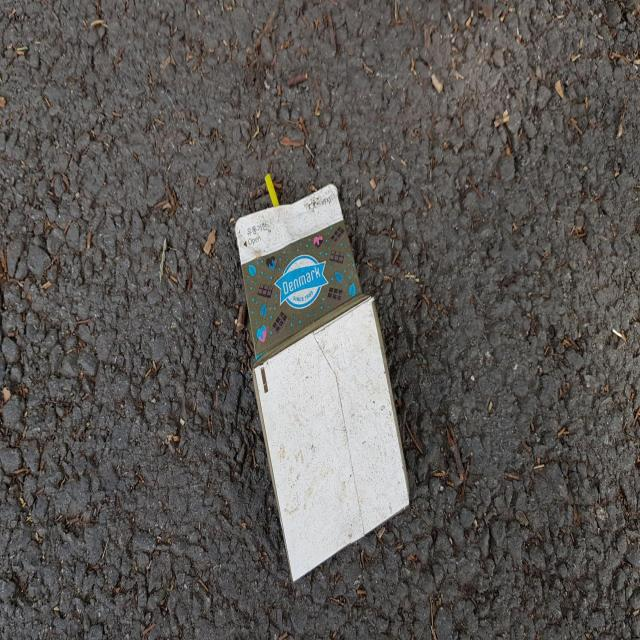paperpack: (235, 183, 409, 580)
